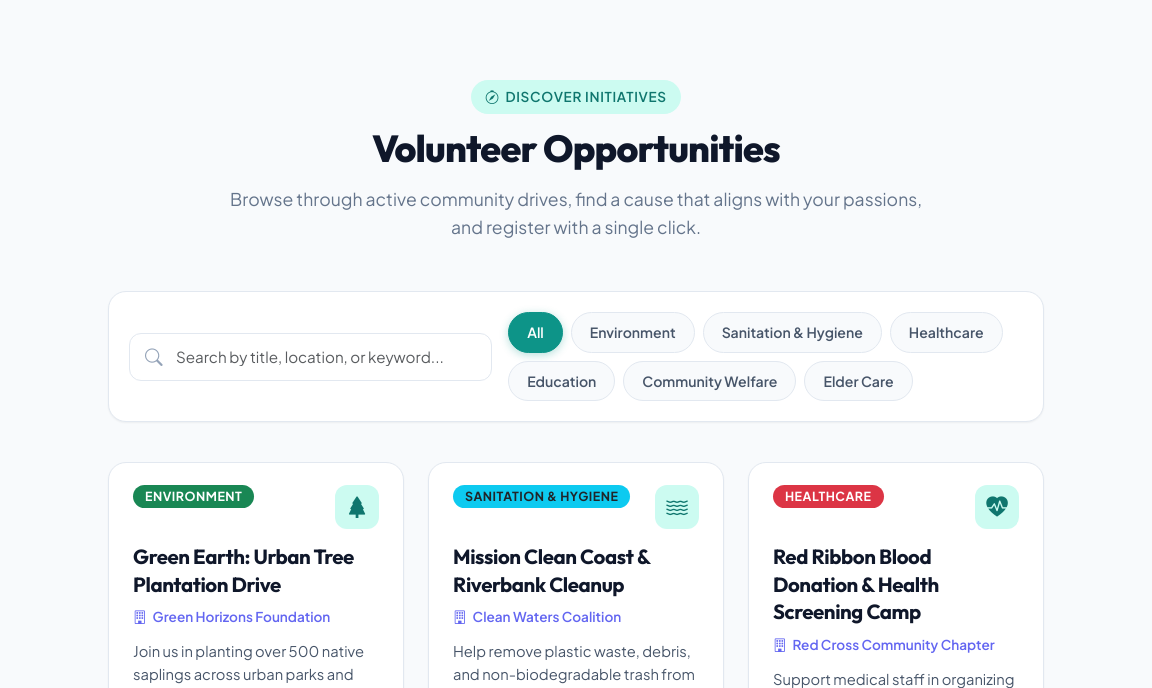
Test: OpportunityList › filters by (debounced) search text and shows empty state
This screenshot has width=1152, height=688.
In the field named "search volunteer": (311, 357) [129,333,492,381], type "zzzz"
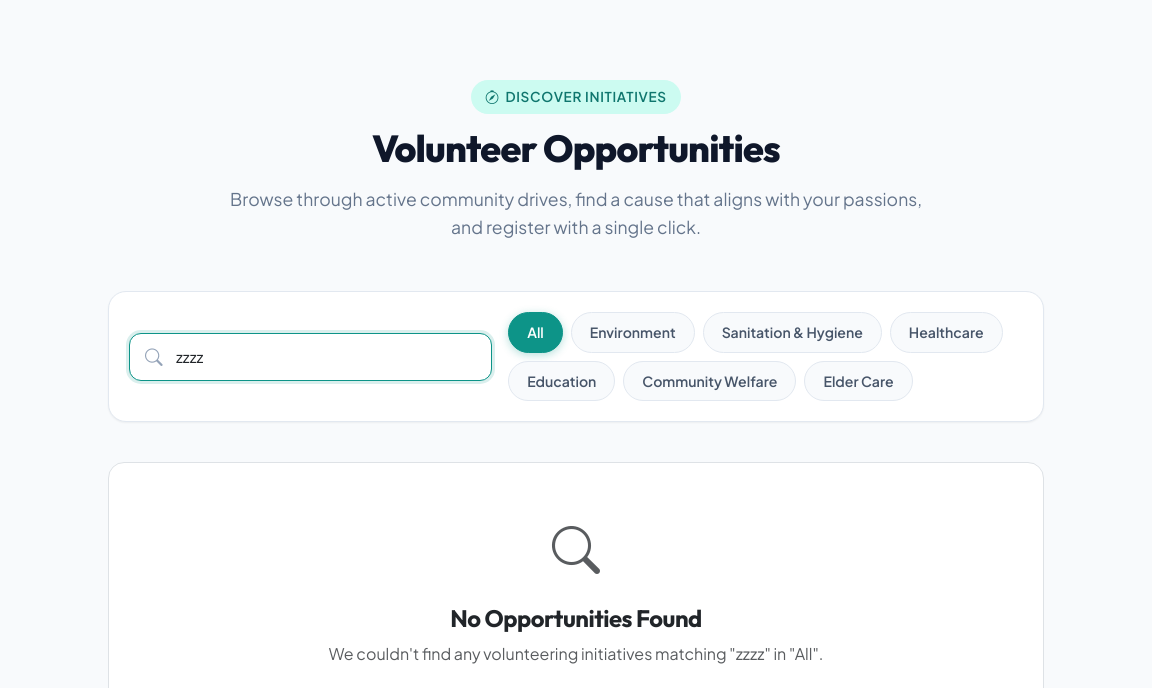
Expected: the heading "No Opportunities Found" is shown, [450,603,702,633]
